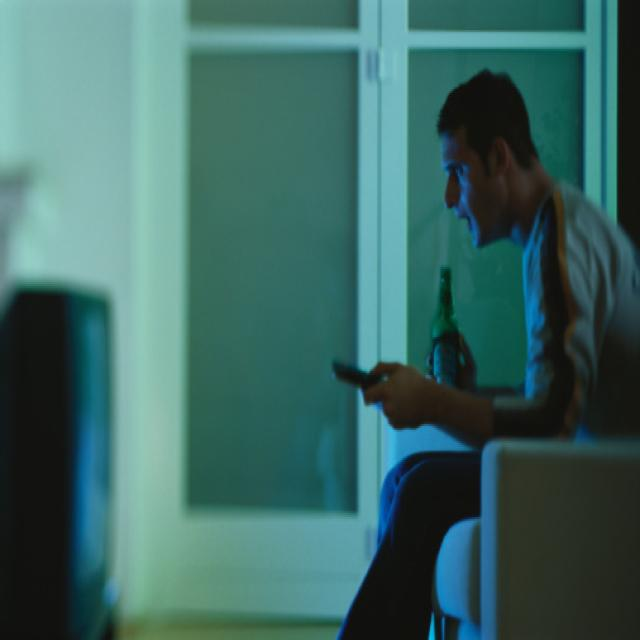Bottle: (429, 265, 469, 416)
People: (388, 64, 586, 560)
